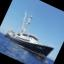fishing boat: (1, 5, 64, 64)
